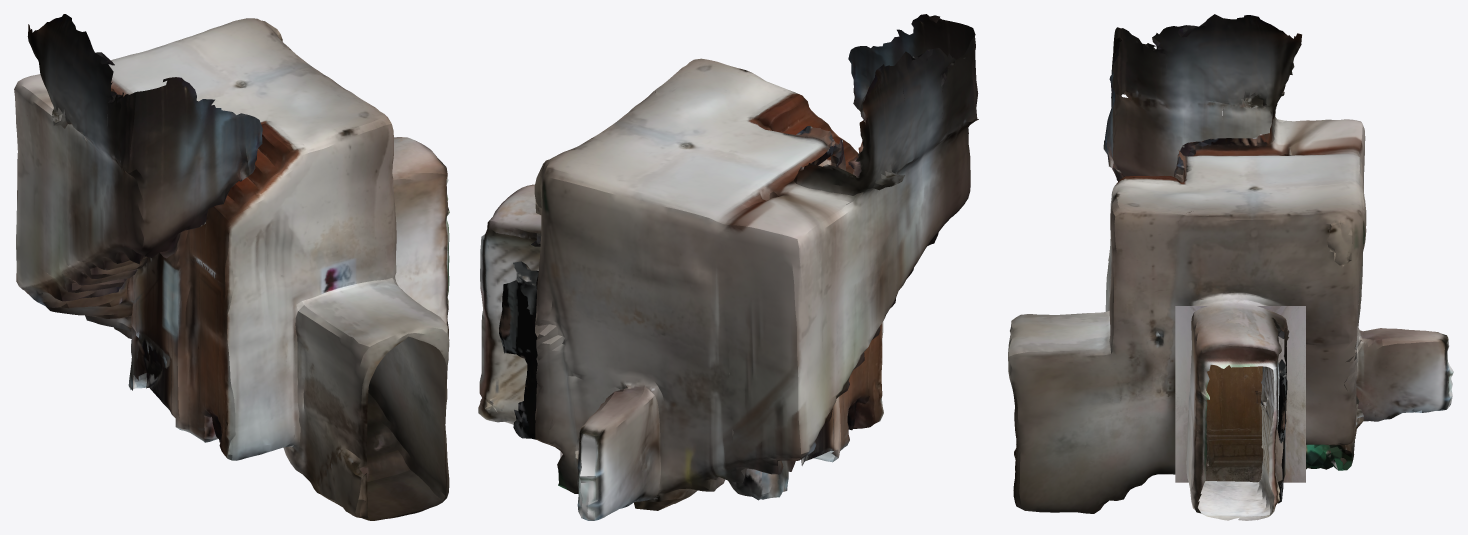
File: Saeulenraum.fbx
3 views of the same model, side by side, from view 1: azimuth 30°, elevation 25°; view 2: azimuth 150°, elevation 25°; view 3: azimuth 270°, elevation 25° (orthographic). The views are drawn at different scales.
Visible parts, largest first — view 1: SaeulenRaumOhneSäule; view 2: SaeulenRaumOhneSäule; view 3: SaeulenRaumOhneSäule, OutsideDoor.
Boxes of the visible parts, x1=… form: SaeulenRaumOhneSäule: x1=14, y1=14, x2=449, y2=520; SaeulenRaumOhneSäule: x1=478, y1=14, x2=978, y2=520; SaeulenRaumOhneSäule: x1=1008, y1=14, x2=1453, y2=520; OutsideDoor: x1=1175, y1=306, x2=1305, y2=482.
Size of the model in its own units: 440 by 503 by 514.
Materials: 2 (2 with a texture image).
